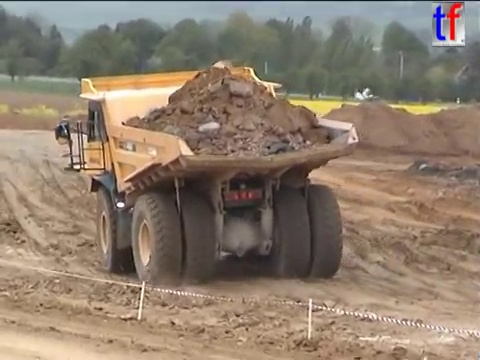truck: (52, 63, 360, 287)
